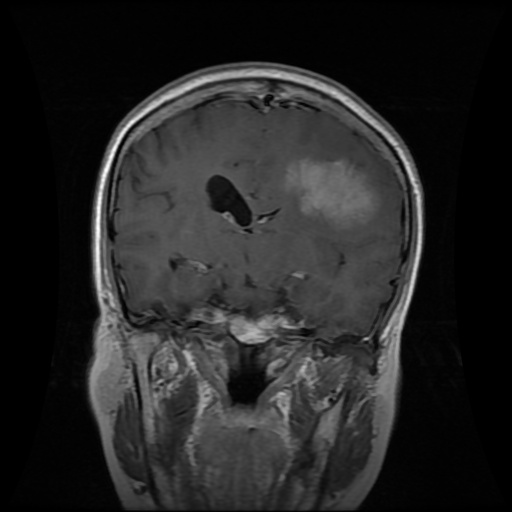meningioma: (284, 159, 378, 230)
